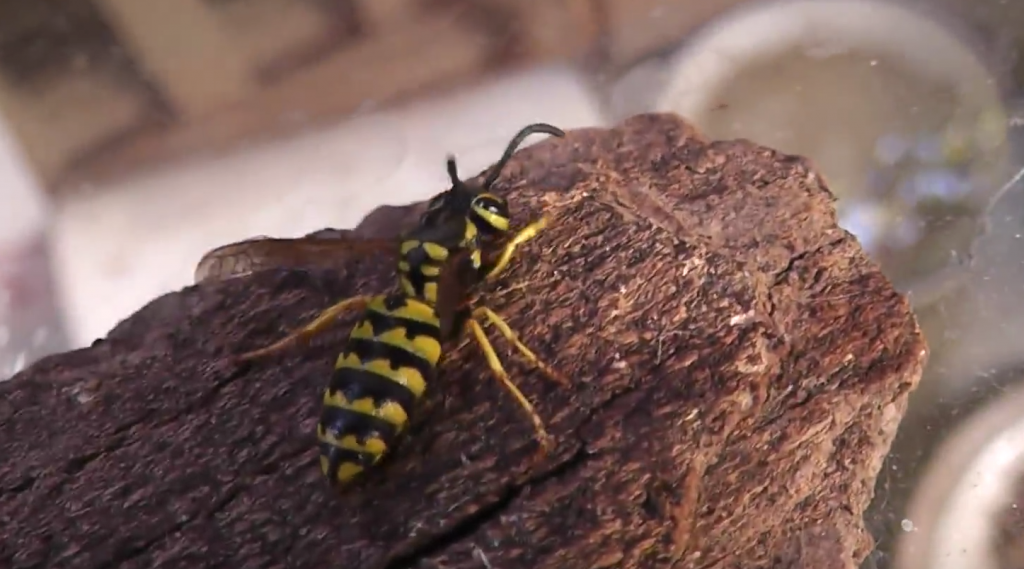chax: (217, 104, 606, 505)
